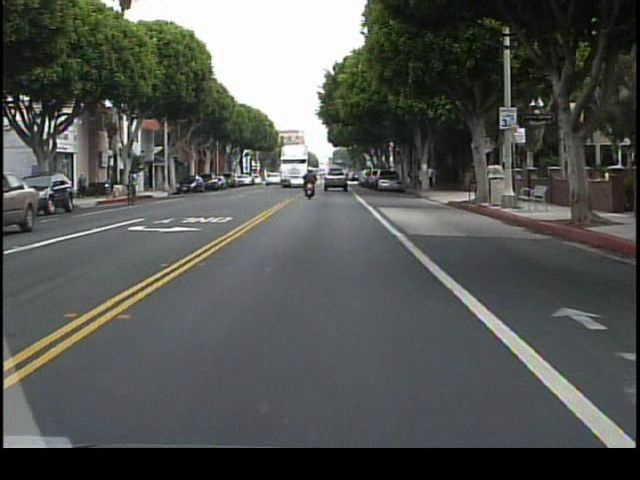person: (123, 166, 143, 203), (304, 163, 322, 204), (414, 165, 424, 192), (433, 163, 441, 190), (429, 165, 434, 189)
